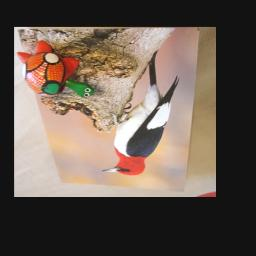Woodpecker: (102, 49, 180, 177)
